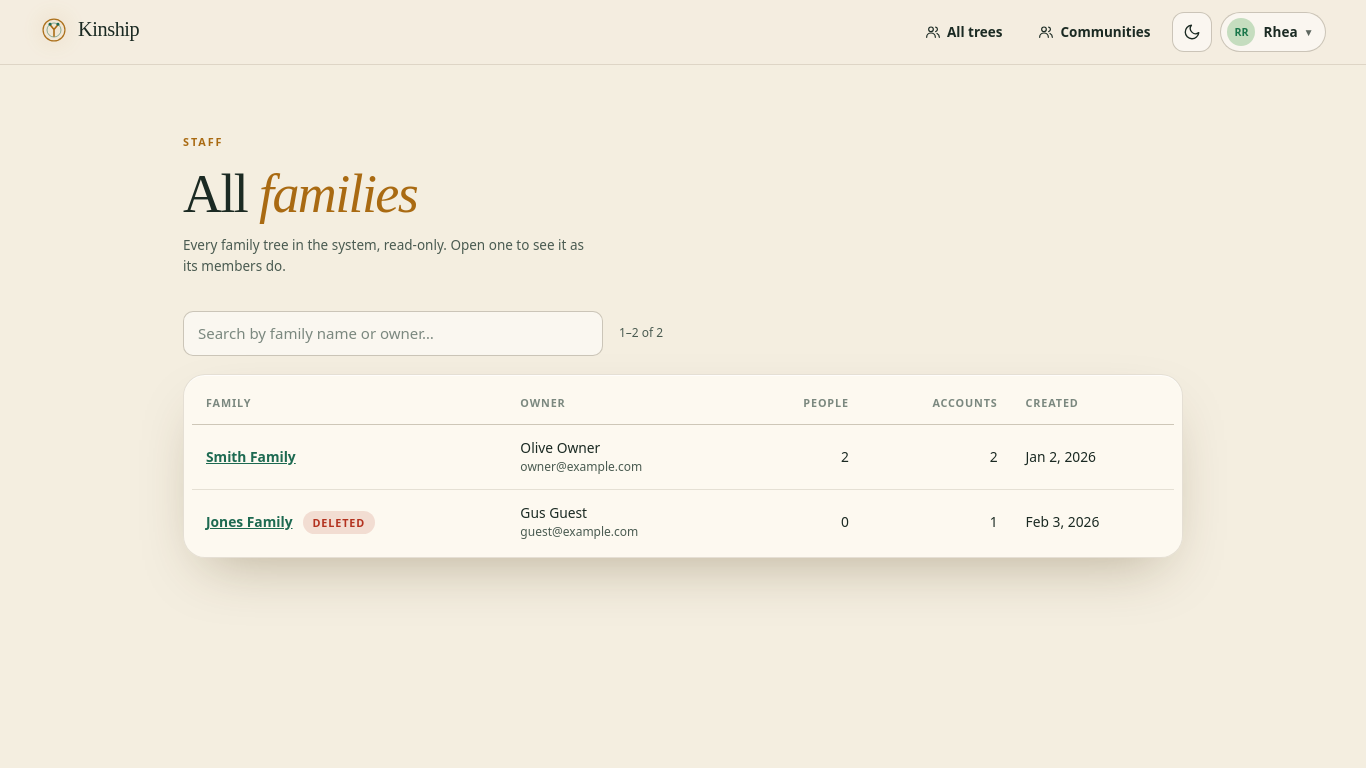
Test: staff pages: browsing › searches
Expected: the link "Smith Family" is shown, left=206, top=447, right=296, bottom=466
Type "jones" into the search field labelled "Search by family name or owner…" at (393, 333), box left=183, top=311, right=603, bottom=356
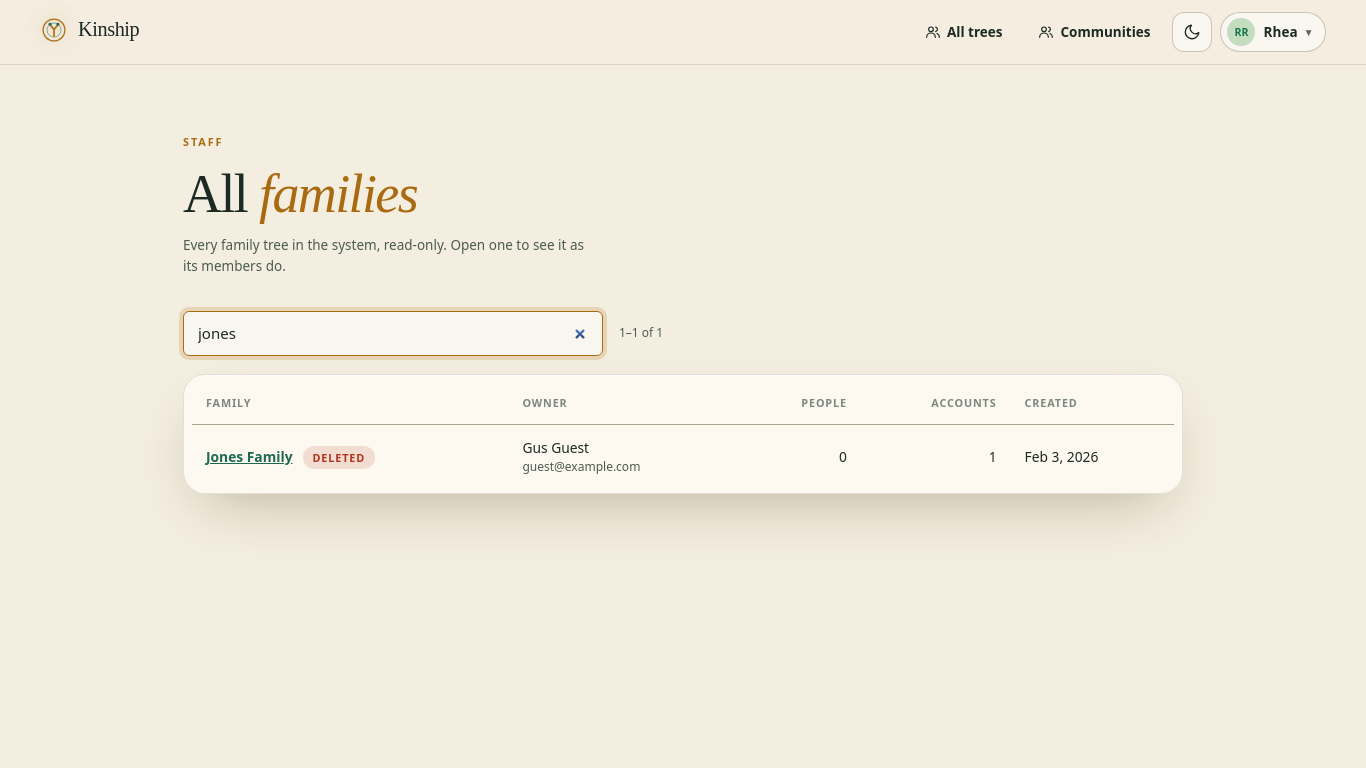
Expected: the link "Jones Family" is shown, left=206, top=447, right=292, bottom=466
Now the link "Smith Family" is gone
